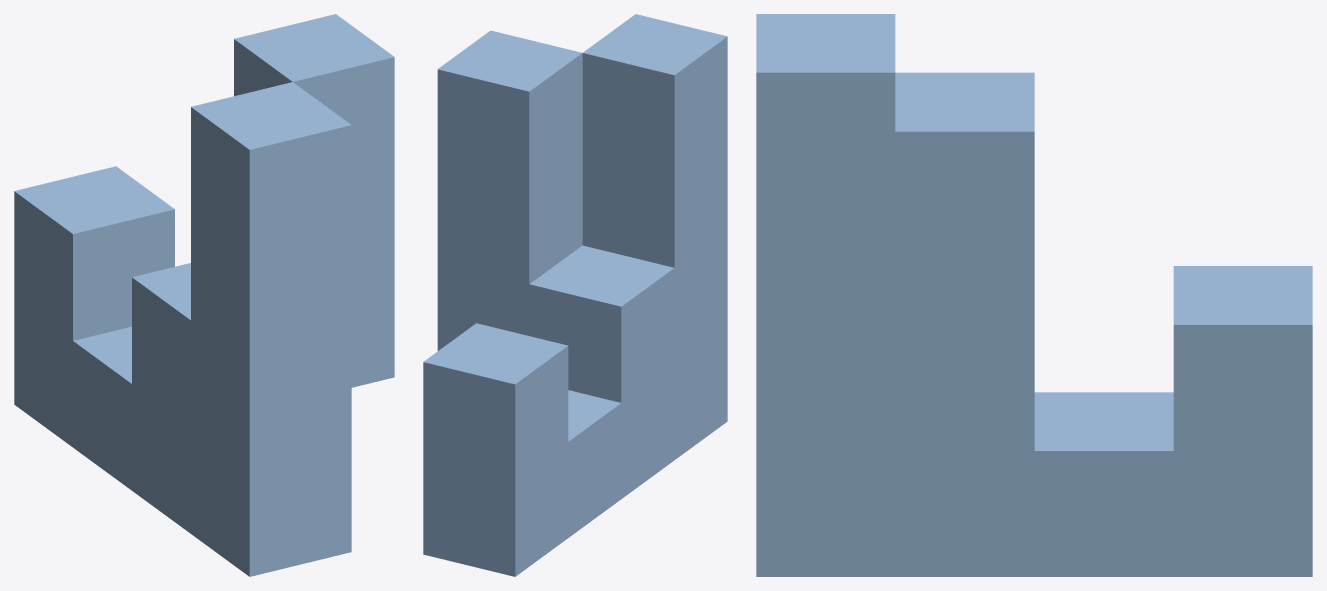
3 views of the same model, side by side, from view 1: azimuth 30°, elevation 25°; view 2: azimuth 150°, elevation 25°; view 3: azimuth 270°, elevation 25° (orthographic). The views are drawn at different scales.
Visible parts, largest first — view 1: _changes (2).022; view 2: _changes (2).022; view 3: _changes (2).022.
Boxes of the visible parts, box(x1,y1,x2,y2) form: _changes (2).022: box(14, 14, 394, 576); _changes (2).022: box(423, 14, 727, 576); _changes (2).022: box(756, 14, 1312, 576).
Bounding box in the file's own units: 0.0799 × 0.1599 × 0.1599.
